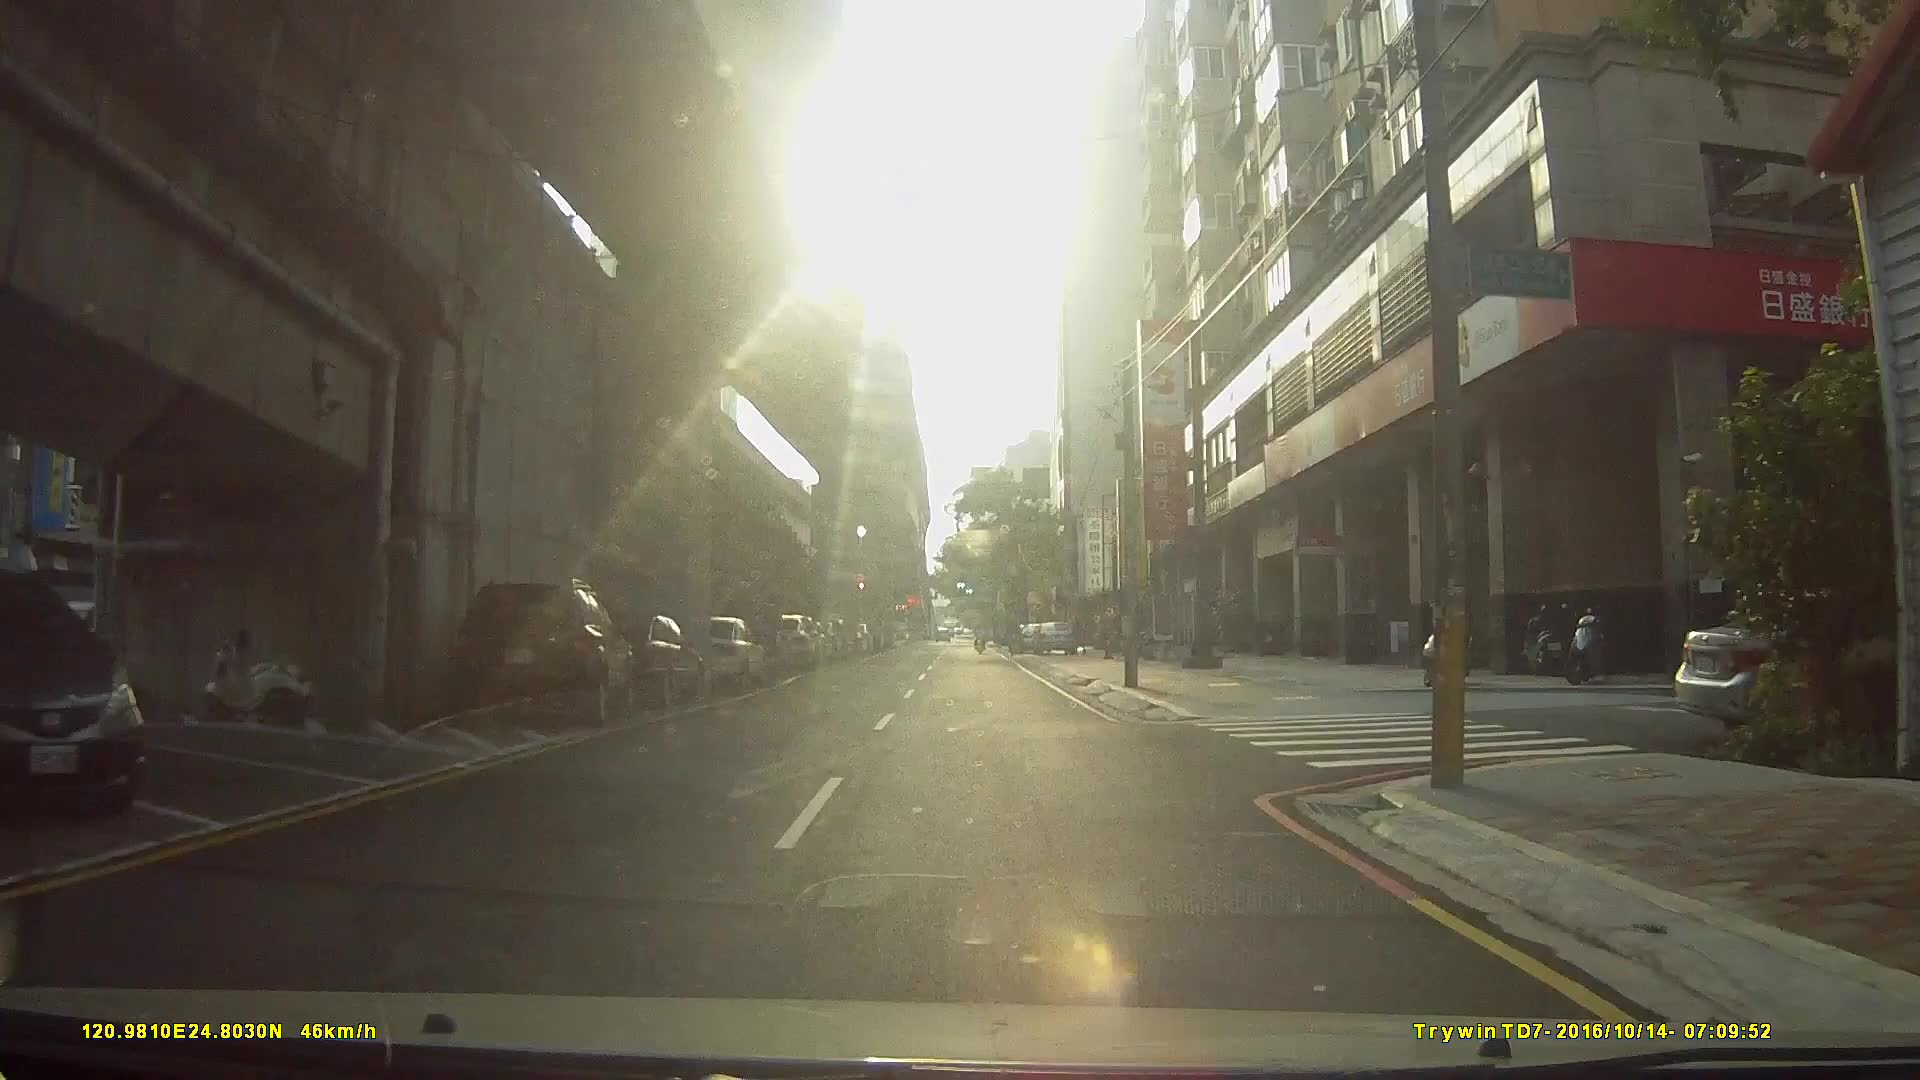vehicle: (0, 568, 145, 820), (448, 578, 636, 729), (556, 612, 703, 712), (676, 613, 765, 694), (659, 620, 794, 670), (1029, 620, 1076, 655)
